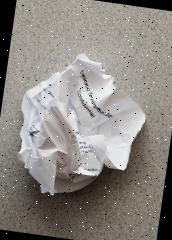paper: (9, 45, 153, 206)
